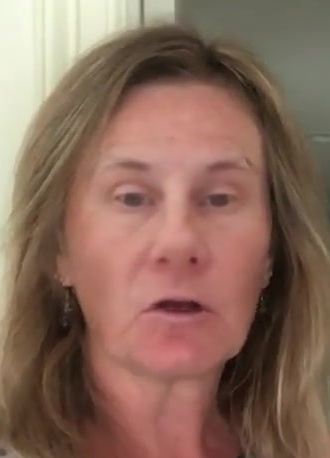eb_f: (92, 150, 259, 222)
